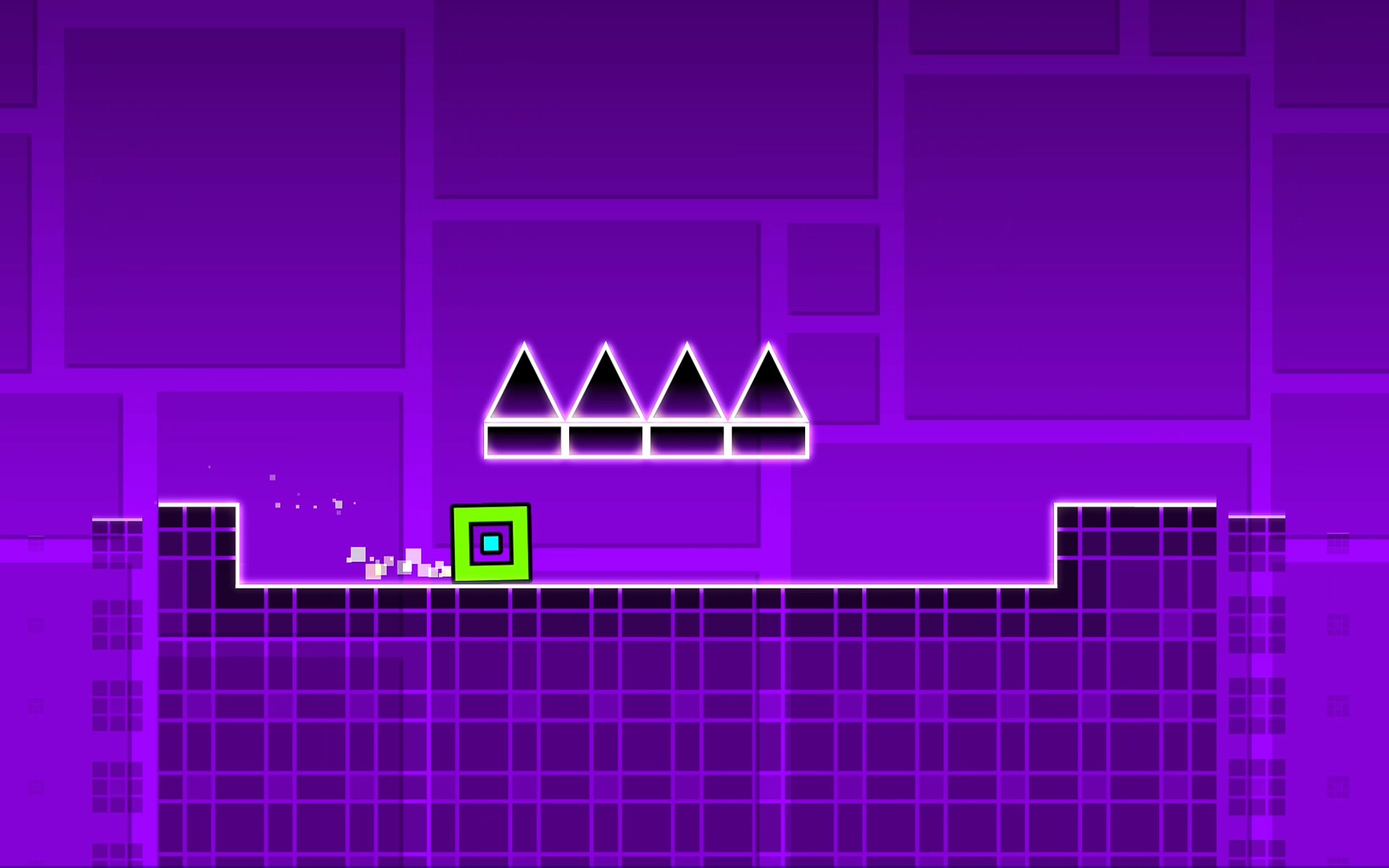Block2: (158, 577, 1179, 852), (1056, 510, 1232, 579), (158, 497, 235, 585)
Block3: (732, 425, 808, 457), (485, 426, 561, 457), (651, 424, 723, 456), (571, 425, 641, 456)
Player: (450, 503, 531, 580)
Spike: (734, 345, 809, 419), (654, 343, 727, 419), (490, 345, 563, 421), (573, 344, 645, 419)
